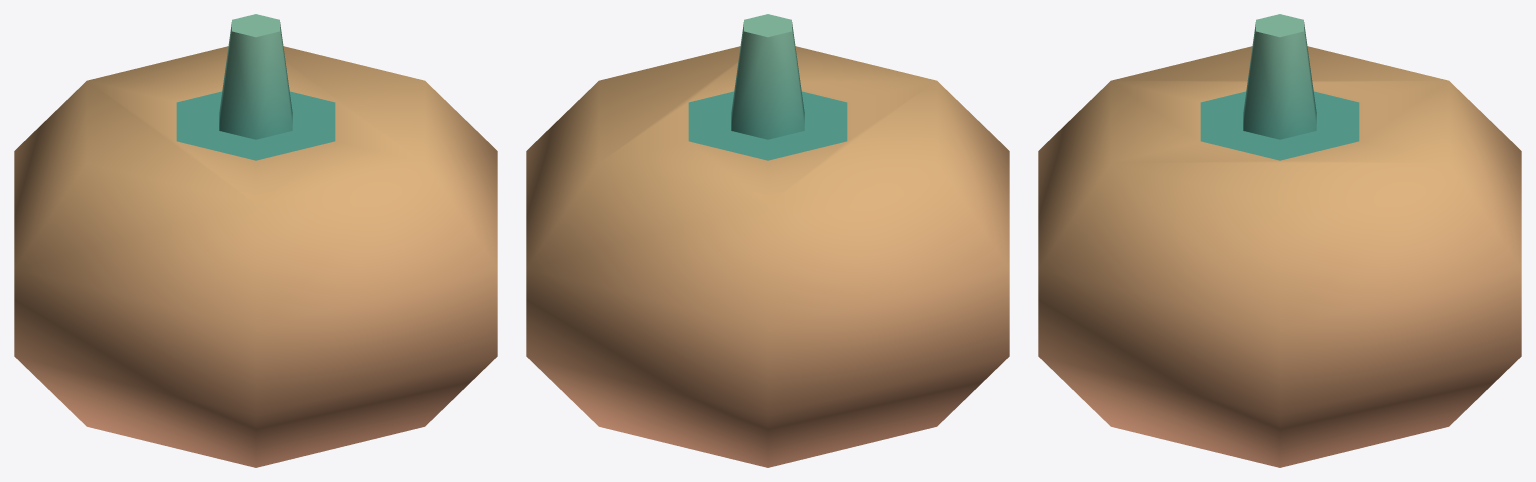
The model's file is pumpkin-basic.glb.
3 renders of one model, left to right at view 1: azimuth 30°, elevation 25°; view 2: azimuth 150°, elevation 25°; view 3: azimuth 270°, elevation 25°, orthographic.
Visible parts, largest first — view 1: pumpkin-basic; view 2: pumpkin-basic; view 3: pumpkin-basic.
Part boxes in pixels (x1=…): pumpkin-basic: x1=14, y1=14, x2=497, y2=467; pumpkin-basic: x1=526, y1=14, x2=1009, y2=467; pumpkin-basic: x1=1038, y1=14, x2=1521, y2=467.
Size of the model in its own units: 0.42 by 0.299 by 0.3637.
